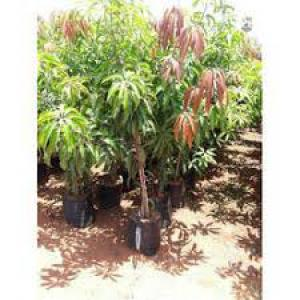Tree: (40, 5, 229, 252)
